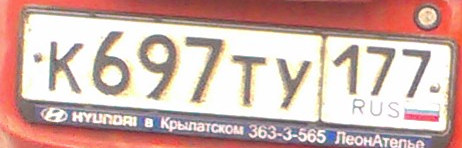character: (135, 30, 178, 103), (181, 32, 223, 104), (89, 29, 132, 96), (270, 53, 313, 114), (231, 50, 268, 111), (46, 39, 84, 98), (400, 43, 433, 101), (333, 40, 364, 101), (365, 40, 397, 98)
